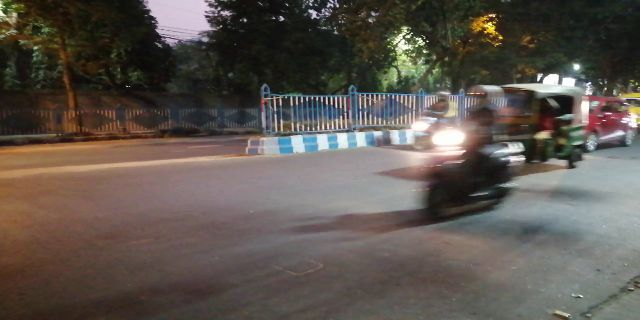Autorickshaw: (527, 84, 590, 160)
Motorbike: (420, 82, 527, 216)
